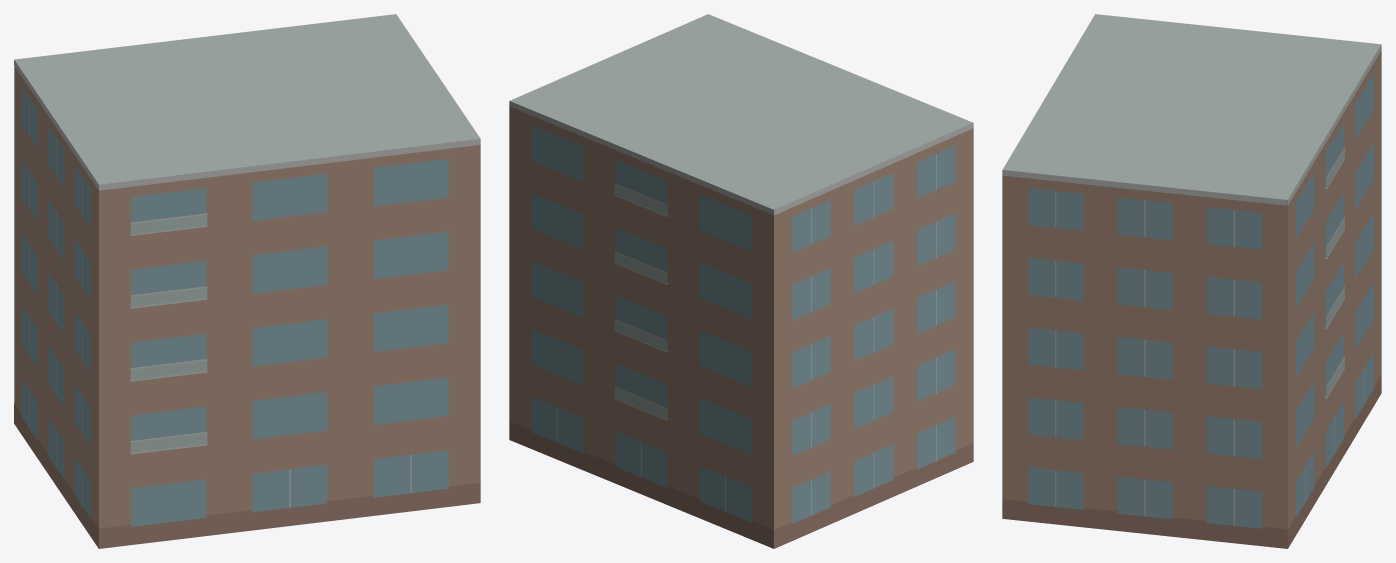
The model's file is survey-upis-32737167.glb.
3 renders of one model, left to right at view 1: azimuth 30°, elevation 25°; view 2: azimuth 150°, elevation 25°; view 3: azimuth 270°, elevation 25°, orthographic. The views are drawn at different scales.
Parts seen in each view (by area): view 1: survey-upis-32737167.tmp; view 2: survey-upis-32737167.tmp; view 3: survey-upis-32737167.tmp.
Part boxes in pixels (<box>): survey-upis-32737167.tmp: <box>14,14,480,548</box>; survey-upis-32737167.tmp: <box>509,14,973,548</box>; survey-upis-32737167.tmp: <box>1002,14,1381,548</box>.
Bounding box in the file's own units: 16.93 × 14.8 × 14.59.
